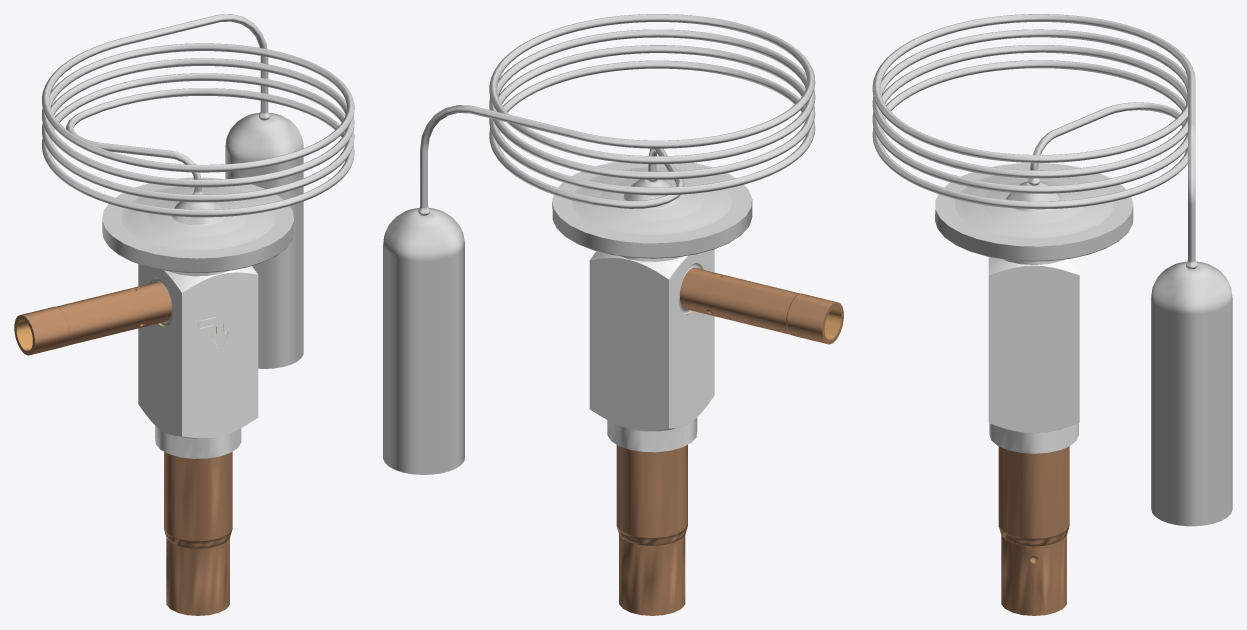
The model's file is TD1_Angleway.glb.
3 views of the same model, side by side, from view 1: azimuth 30°, elevation 25°; view 2: azimuth 150°, elevation 25°; view 3: azimuth 270°, elevation 25° (orthographic). The views are drawn at different scales.
Visible parts, largest first — view 1: Solid1, Solid1.002, Solid1.001; view 2: Solid1, Solid1.002, Solid1.001; view 3: Solid1, Solid1.002, Solid1.001.
Boxes of the visible parts, x1,y1,x2,y2 form: Solid1: (14, 177, 293, 615); Solid1.002: (42, 14, 354, 217); Solid1.001: (225, 112, 303, 368); Solid1: (552, 162, 843, 615); Solid1.002: (418, 14, 815, 215); Solid1.001: (383, 208, 464, 474); Solid1: (935, 163, 1133, 615); Solid1.002: (872, 14, 1197, 269); Solid1.001: (1151, 261, 1232, 526).
Bounding box in the file's own units: 1.45 × 2.01 × 1.25.
